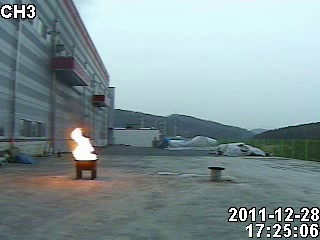fire: (69, 123, 100, 162)
